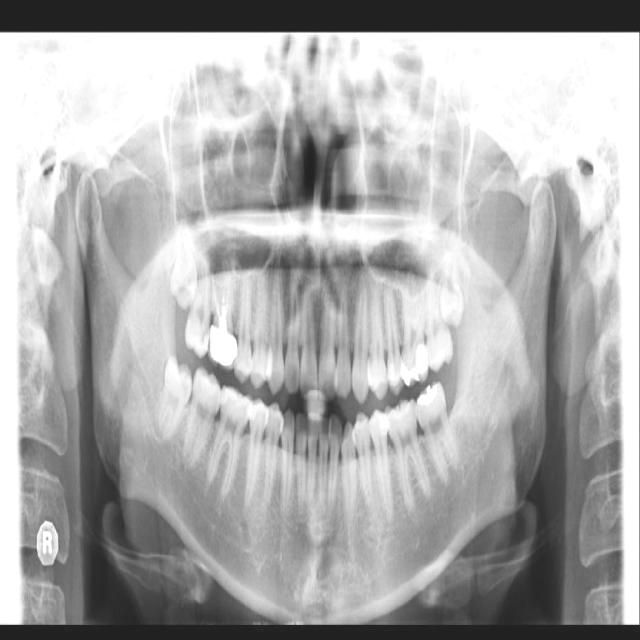Crown: (207, 324, 238, 372)
Filling: (398, 343, 434, 381), (418, 383, 441, 403), (387, 404, 414, 420), (375, 414, 386, 429)
Root Canal Treatment: (212, 275, 217, 316), (223, 266, 227, 301)
impacted tooth: (438, 233, 469, 322), (158, 359, 191, 439), (170, 220, 198, 307)
